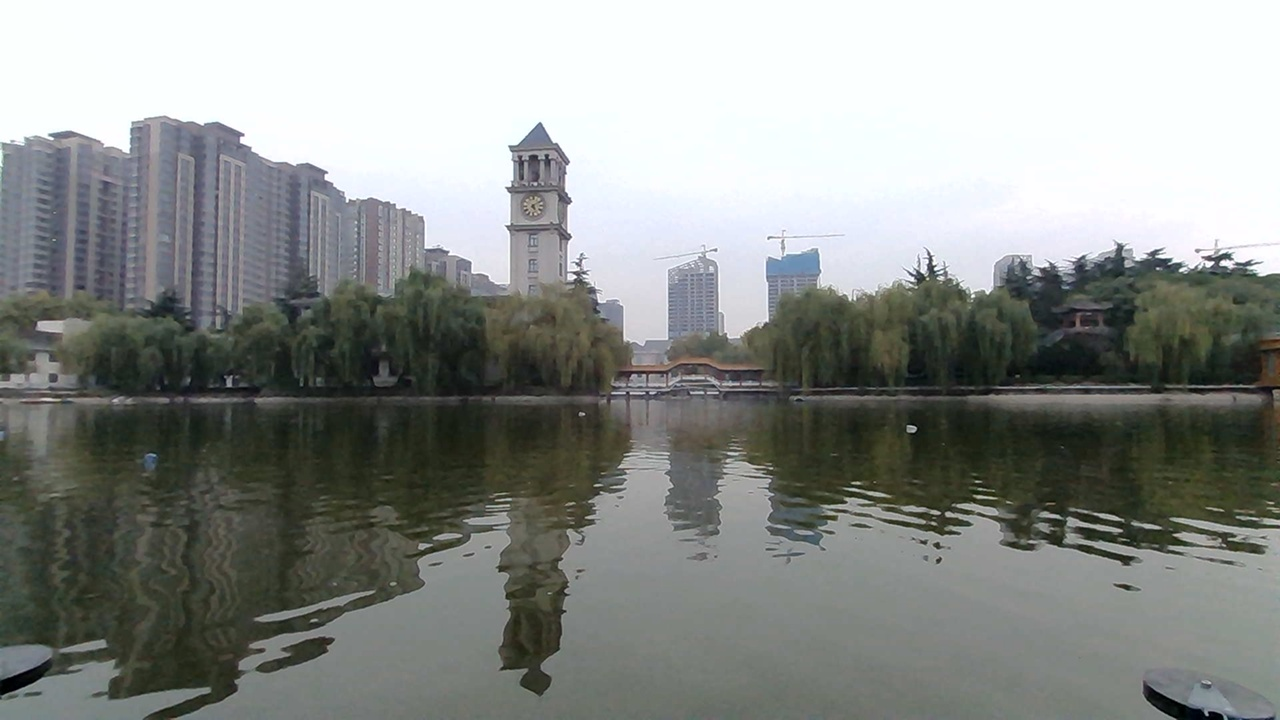bottle: (132, 447, 169, 475), (893, 419, 925, 448)
